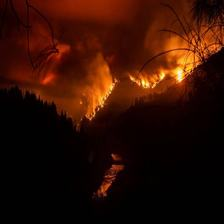fire: (25, 23, 215, 123)
